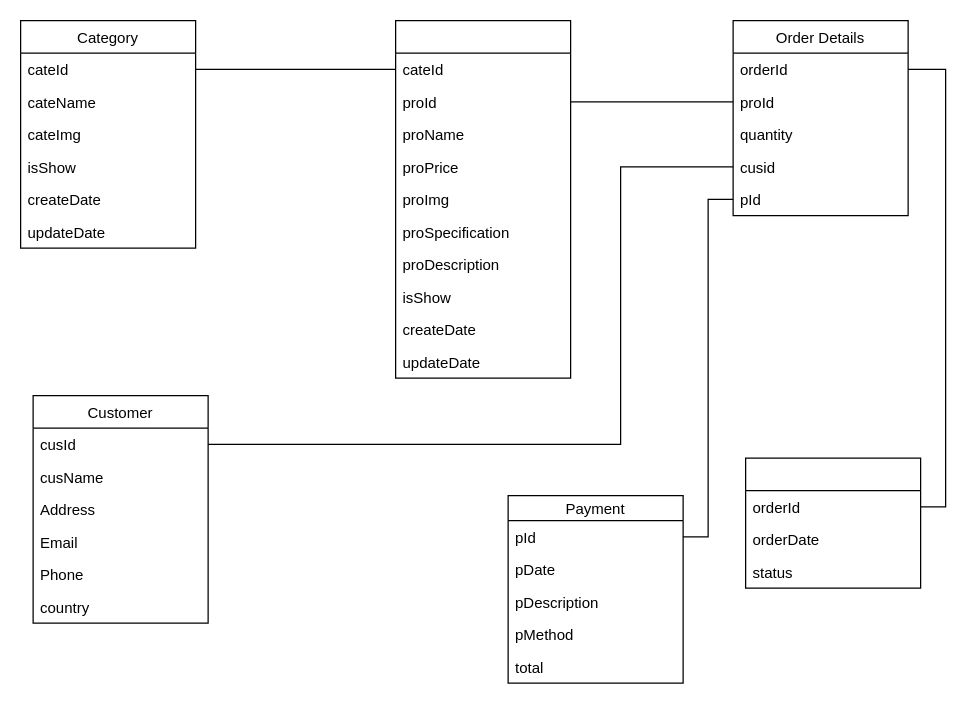
Image size: 966x704. Some labels were removed from this diagram. The shapes that lost their labels are listed below. From the top down, each one's box as (x1, y1, x2, y2) in pixels, then its label:
(394, 19, 571, 378): Product
(744, 457, 921, 588): Order Product
